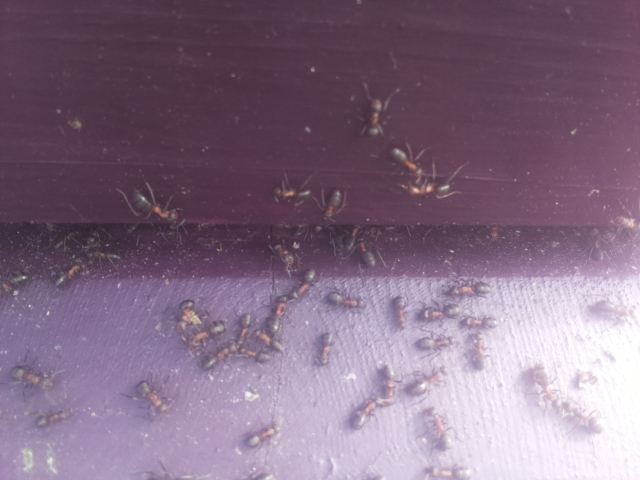ant: (262, 253, 327, 333), (383, 143, 453, 198), (121, 183, 186, 233), (128, 367, 177, 425), (334, 220, 385, 273), (342, 390, 398, 434), (310, 178, 347, 240), (195, 339, 265, 370), (238, 414, 291, 454), (419, 404, 459, 456), (528, 358, 562, 417), (2, 361, 61, 394), (183, 316, 232, 351), (264, 179, 319, 207), (359, 92, 389, 143), (410, 365, 445, 399), (447, 277, 492, 301), (51, 260, 86, 290), (327, 288, 367, 313), (34, 405, 72, 431), (267, 239, 297, 270), (423, 300, 463, 323), (316, 327, 336, 372), (389, 292, 410, 334), (379, 361, 398, 402), (470, 330, 487, 372), (417, 335, 453, 354), (257, 331, 282, 354)
